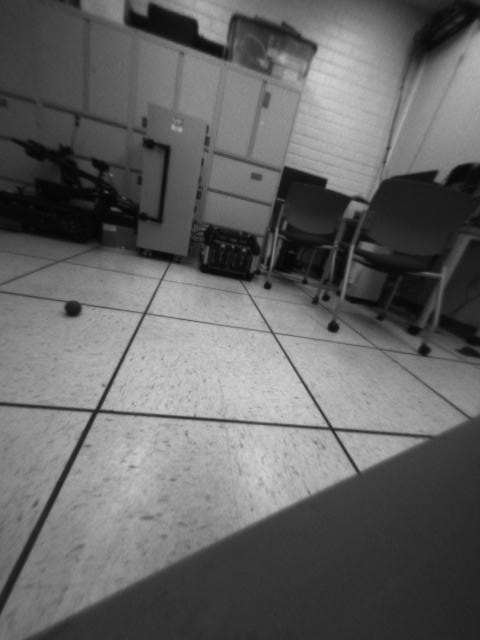dogtoy: (57, 292, 87, 324)
